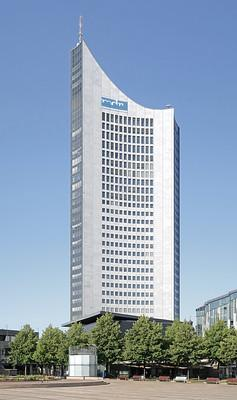building: (64, 39, 188, 331)
